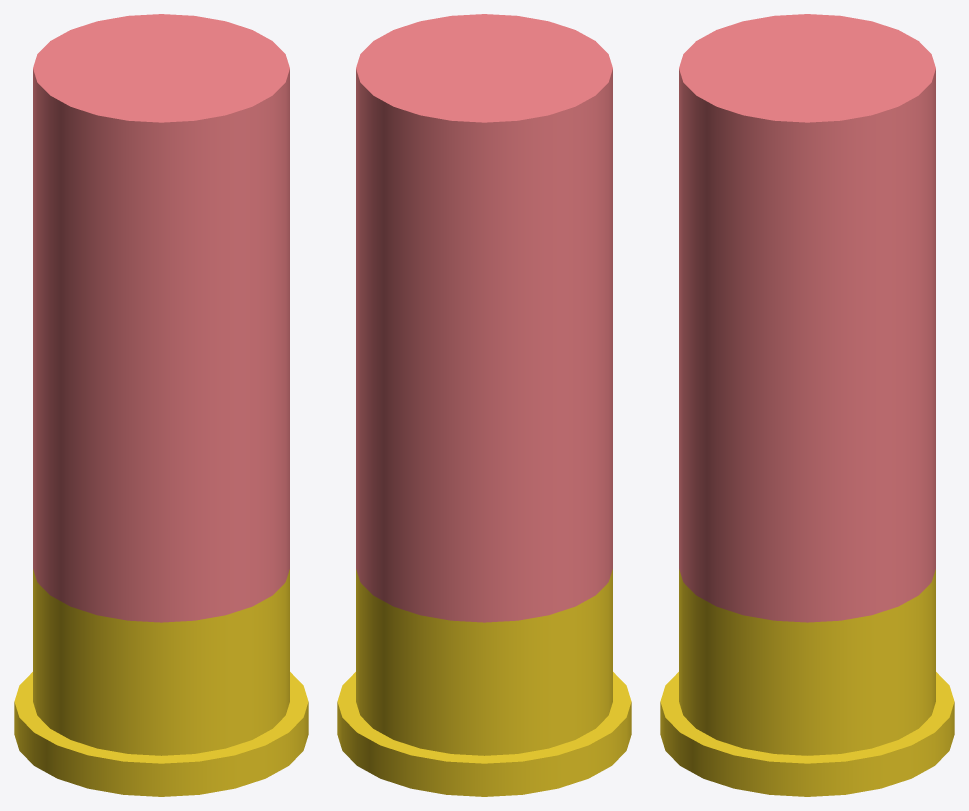
File: kenney-weapon-ammo-shotgun.glb
The picture shows the model from 3 angles, left to right: view 1: azimuth 30°, elevation 25°; view 2: azimuth 150°, elevation 25°; view 3: azimuth 270°, elevation 25°; orthographic projection.
Parts seen in each view (by area): view 1: ammo_shotgun; view 2: ammo_shotgun; view 3: ammo_shotgun.
Boxes of the visible parts, bbox=[...] form: ammo_shotgun: bbox=[14, 14, 308, 796]; ammo_shotgun: bbox=[337, 14, 631, 796]; ammo_shotgun: bbox=[660, 14, 954, 796].
Size of the model in its own units: 0.0306 by 0.0766 by 0.0306.
